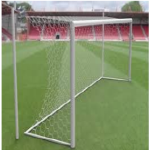goals: (24, 14, 135, 148)
